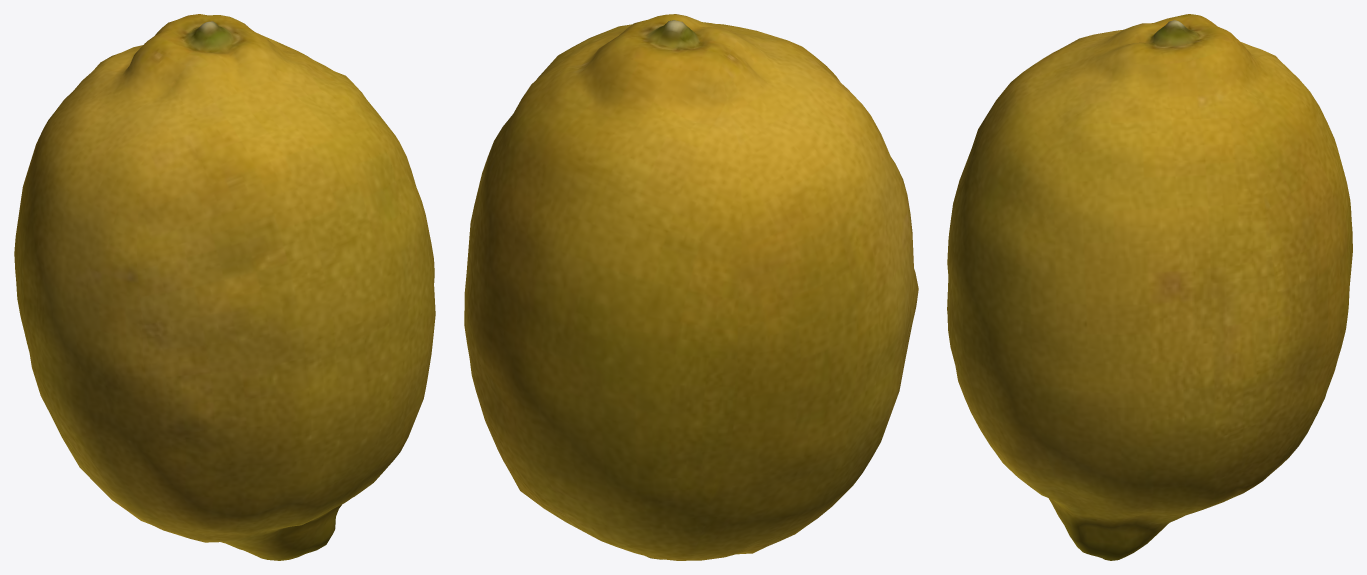
The model's file is lemon.glb.
The picture shows the model from 3 angles, left to right: view 1: azimuth 30°, elevation 25°; view 2: azimuth 150°, elevation 25°; view 3: azimuth 270°, elevation 25°; orthographic projection. The views are drawn at different scales.
Parts seen in each view (by area): view 1: lemon; view 2: lemon; view 3: lemon.
Boxes of the visible parts, left/top/right/bottom form: lemon: left=14, top=14, right=435, bottom=560; lemon: left=464, top=14, right=918, bottom=560; lemon: left=947, top=14, right=1352, bottom=560.
Bounding box in the file's own units: 0.0687 × 0.0954 × 0.0683.
1 material, 1 textured.
